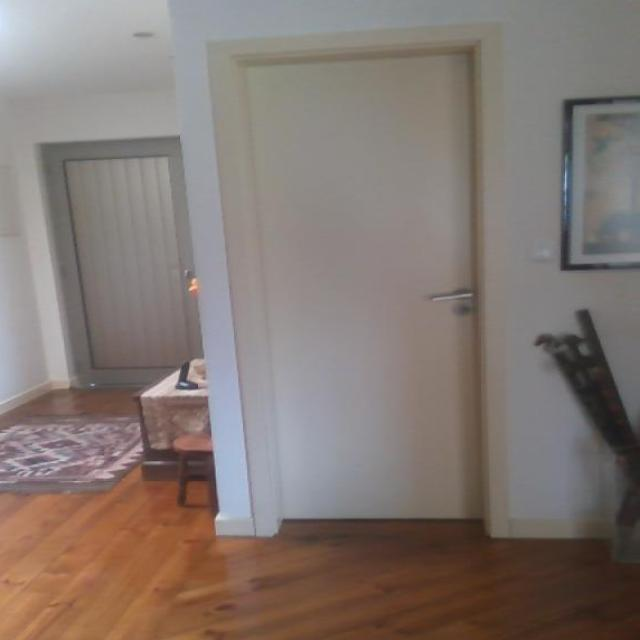door: (231, 41, 484, 523)
